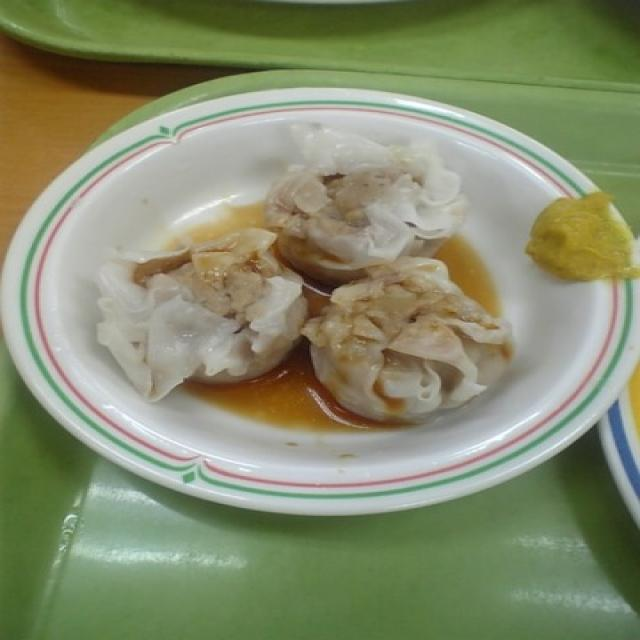带馅早点: (87, 140, 517, 452)
